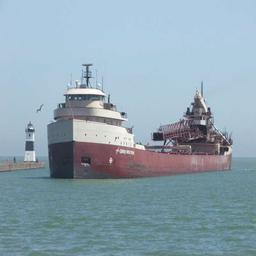Ship: (46, 63, 237, 182)
